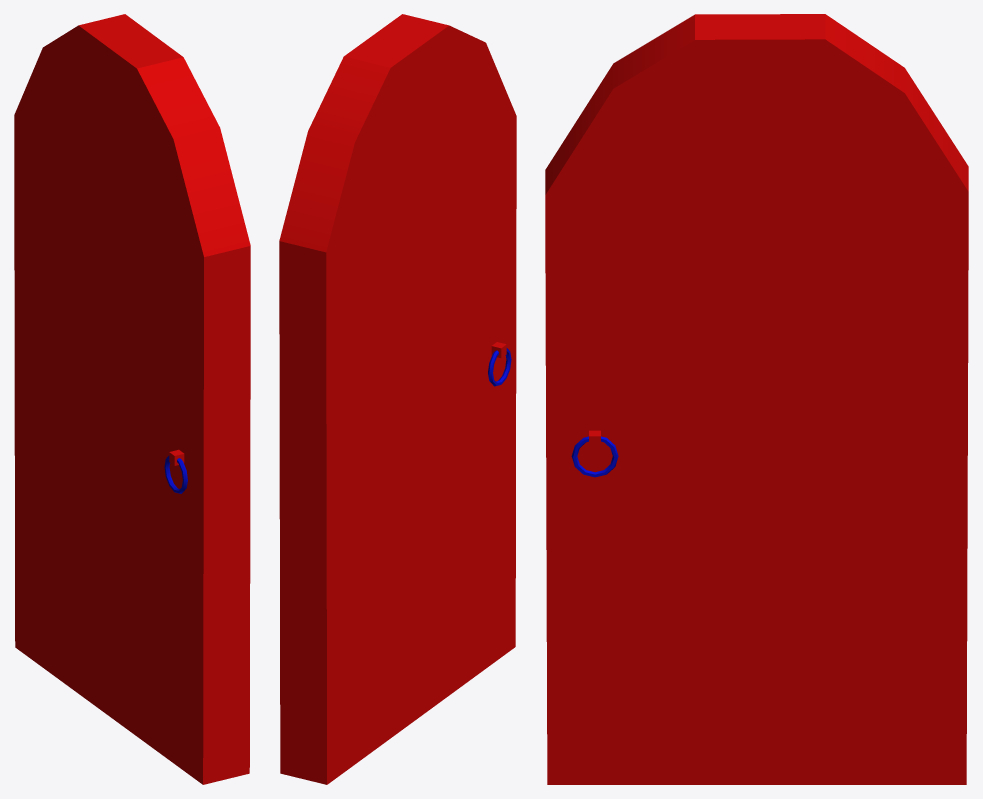
The model's file is Door lowpoly.fbx.
3 views of the same model, side by side, from view 1: azimuth 30°, elevation 25°; view 2: azimuth 150°, elevation 25°; view 3: azimuth 270°, elevation 25° (orthographic). The views are drawn at different scales.
Parts seen in each view (by area): view 1: Cube.011; view 2: Cube.011; view 3: Cube.011.
Boxes of the visible parts, x1,y1,x2,y2 form: Cube.011: [14, 14, 250, 784]; Cube.011: [279, 14, 516, 784]; Cube.011: [545, 14, 968, 784].
Bounding box in the file's own units: 21.06 × 202 × 104.
